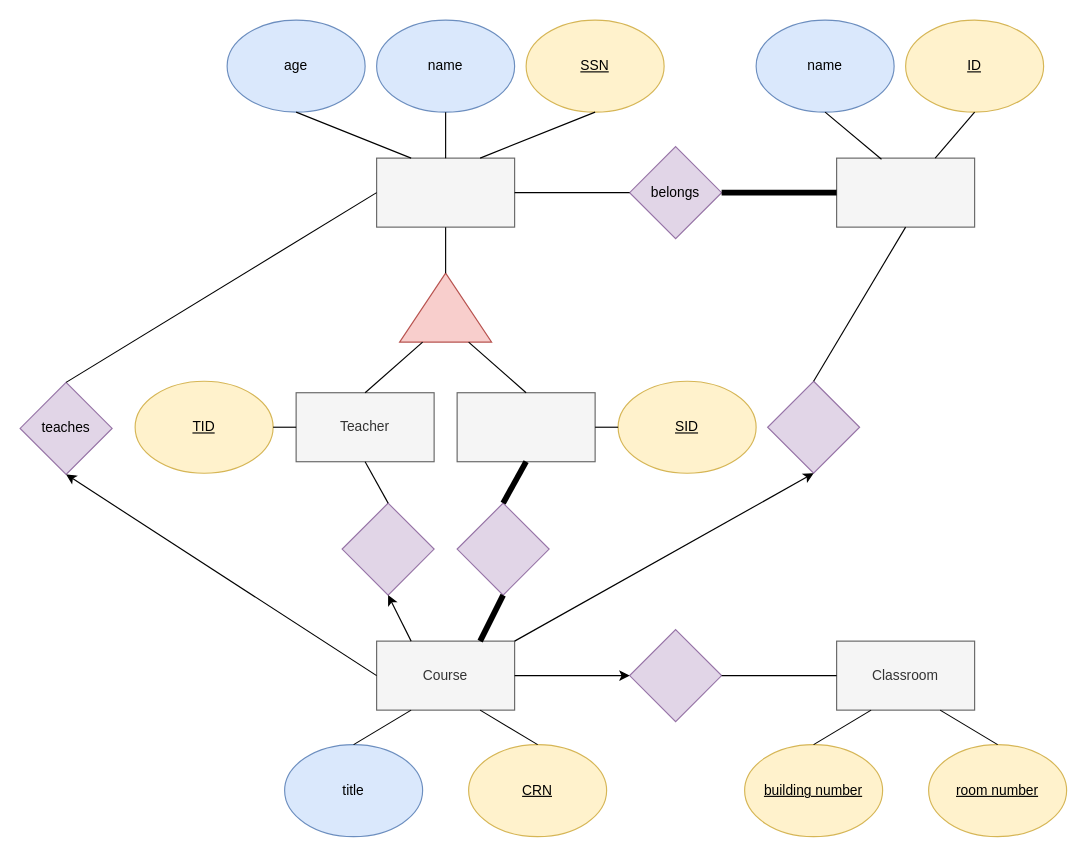
Image size: 1087x857. Some labels were removed from this diagram. Here are the shapes that lost their labels. From the top down, the box of each, then its label:
(375, 157, 515, 227): Person
(835, 157, 975, 227): Department
(398, 272, 492, 342): ISA
(456, 392, 595, 462): Student
(766, 380, 860, 473): offers
(341, 502, 434, 595): teacher teaches
(456, 502, 549, 595): registers
(628, 628, 722, 722): uses
